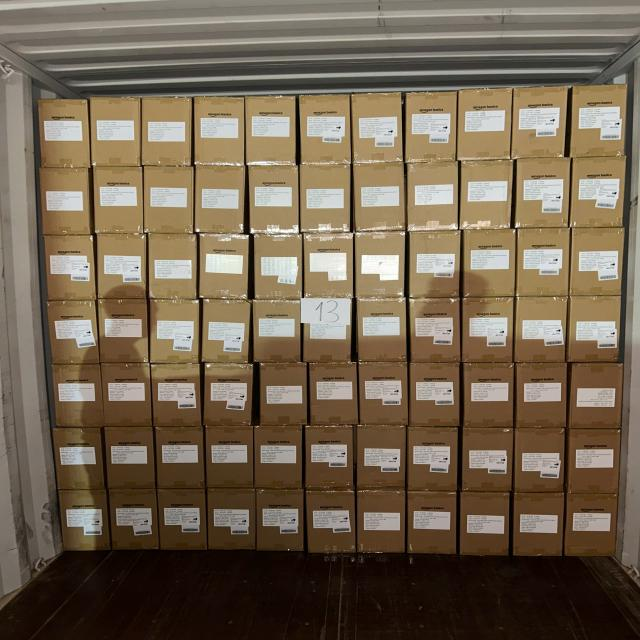Carton: (572, 86, 629, 160), (569, 156, 624, 229), (511, 88, 565, 162), (459, 86, 512, 161), (518, 158, 573, 229), (461, 159, 514, 231), (568, 364, 624, 432), (568, 228, 623, 297), (351, 91, 402, 165), (407, 90, 458, 163), (302, 93, 353, 166), (140, 95, 191, 167), (518, 229, 571, 298), (300, 166, 353, 235), (247, 94, 297, 167), (40, 168, 92, 238), (464, 228, 516, 298), (195, 95, 246, 166), (409, 232, 462, 300), (353, 164, 406, 232), (90, 96, 140, 168), (408, 162, 459, 232), (41, 98, 92, 168), (44, 232, 96, 300), (518, 298, 570, 366), (462, 428, 514, 496), (564, 495, 616, 563), (196, 166, 247, 235), (568, 297, 620, 364), (517, 364, 569, 431), (251, 167, 302, 235), (304, 298, 355, 366), (47, 303, 101, 367), (354, 298, 406, 364), (464, 360, 516, 426), (510, 491, 562, 557), (94, 235, 145, 302), (143, 168, 194, 235), (354, 232, 404, 300), (254, 231, 304, 299), (95, 170, 145, 238), (464, 300, 516, 365), (53, 428, 105, 493), (568, 431, 620, 496), (410, 298, 461, 364), (410, 363, 461, 429), (200, 234, 250, 301), (101, 299, 151, 366), (460, 492, 510, 559), (148, 234, 197, 302), (52, 365, 103, 430), (302, 235, 352, 301), (408, 428, 458, 494), (149, 300, 199, 366), (151, 362, 201, 428), (518, 429, 567, 496), (105, 364, 155, 429), (408, 491, 458, 556), (204, 424, 253, 490), (355, 491, 404, 557), (309, 489, 357, 556), (354, 427, 404, 491), (108, 428, 158, 492), (358, 363, 408, 427), (109, 488, 159, 552), (204, 364, 254, 428), (201, 297, 249, 363), (155, 428, 204, 492), (303, 424, 352, 488), (254, 298, 302, 363), (257, 427, 305, 492), (59, 492, 109, 554), (258, 488, 307, 551), (312, 364, 361, 427), (161, 488, 209, 552), (208, 487, 256, 551), (260, 363, 307, 427)
